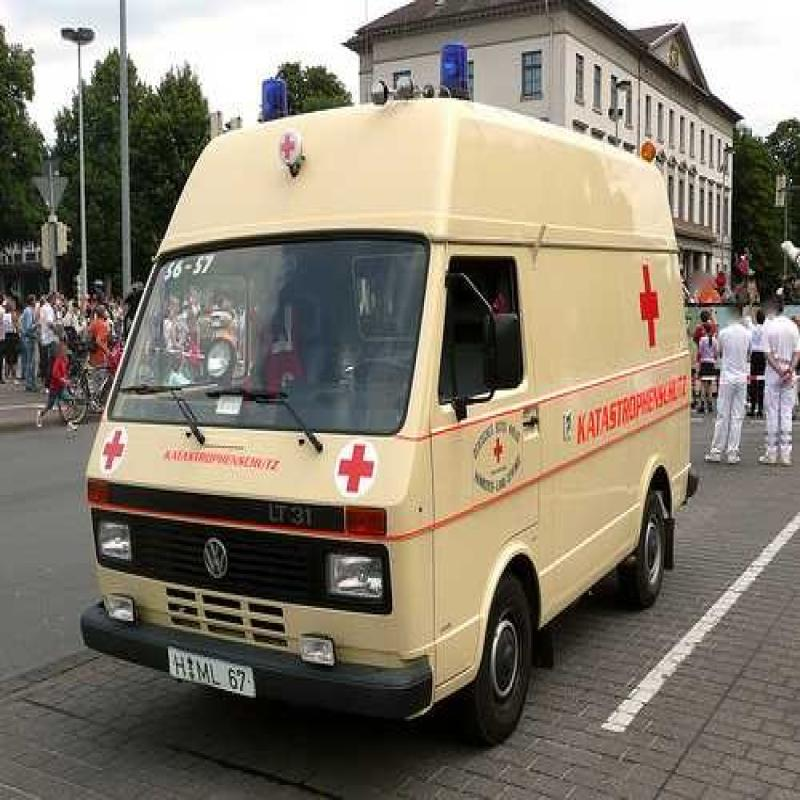AmbulanceSiren: (226, 39, 319, 134), (442, 24, 495, 111)
